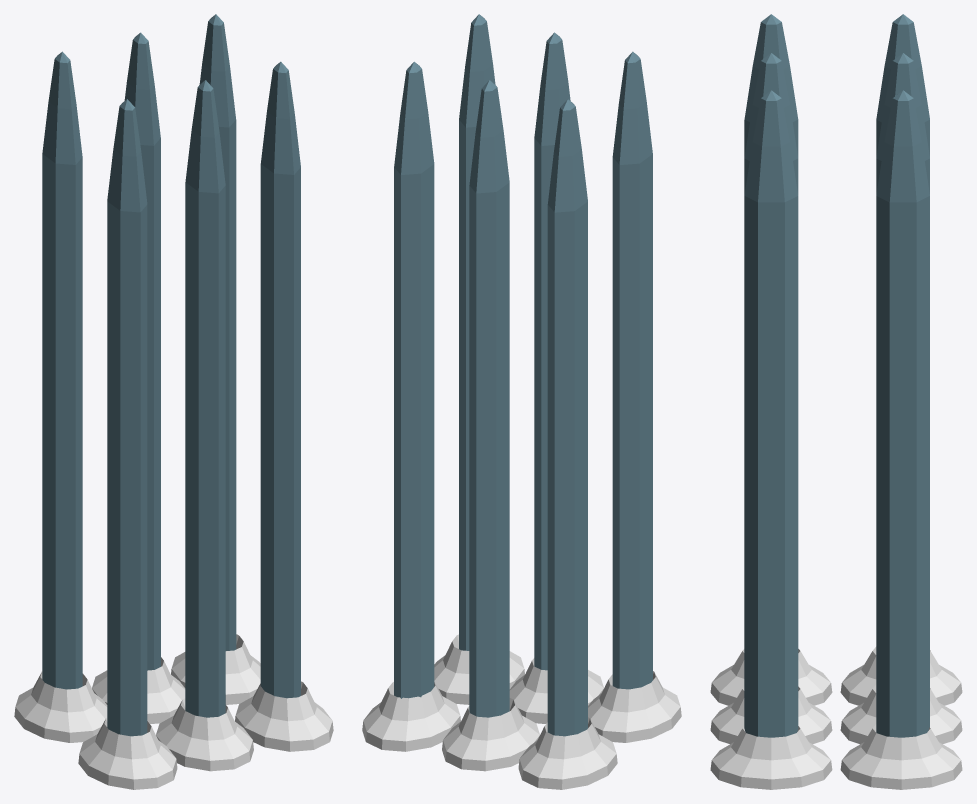
Rendered from çivili_engel.fbx.
3 renders of one model, left to right at view 1: azimuth 30°, elevation 25°; view 2: azimuth 150°, elevation 25°; view 3: azimuth 270°, elevation 25°, orthographic.
Visible parts, largest first — view 1: Cylinder.003, Circle.002; view 2: Cylinder.003, Circle.002; view 3: Cylinder.003, Circle.002.
Part boxes in pixels (x1=…): Cylinder.003: x1=42, y1=14, x2=300, y2=736; Circle.002: x1=14, y1=634, x2=333, y2=789; Cylinder.003: x1=394, y1=14, x2=652, y2=736; Circle.002: x1=362, y1=634, x2=681, y2=789; Cylinder.003: x1=744, y1=14, x2=929, y2=737; Circle.002: x1=710, y1=646, x2=962, y2=789.
Bounding box in the file's own units: 89.2 × 241 × 81.16.
1 material, 1 textured.
